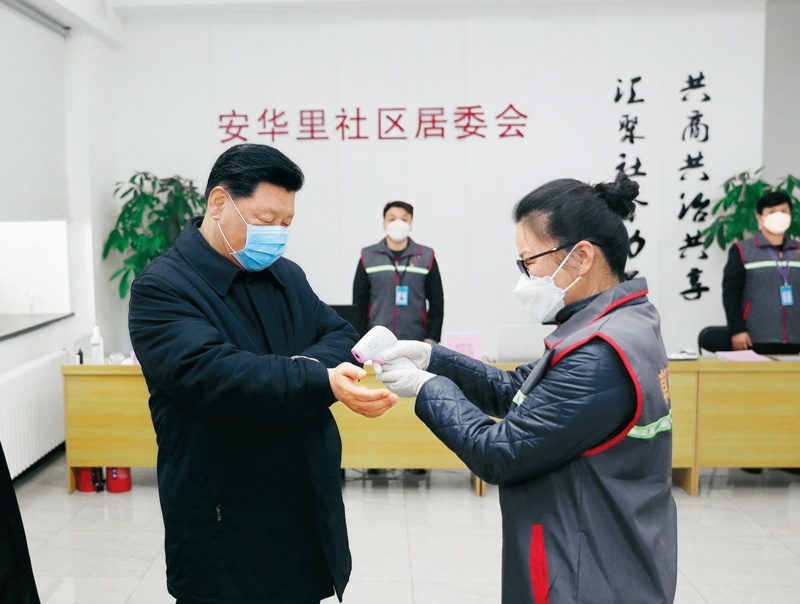correctlyWear: (513, 226, 645, 327), (204, 187, 295, 274), (754, 191, 792, 234), (381, 212, 415, 240)
